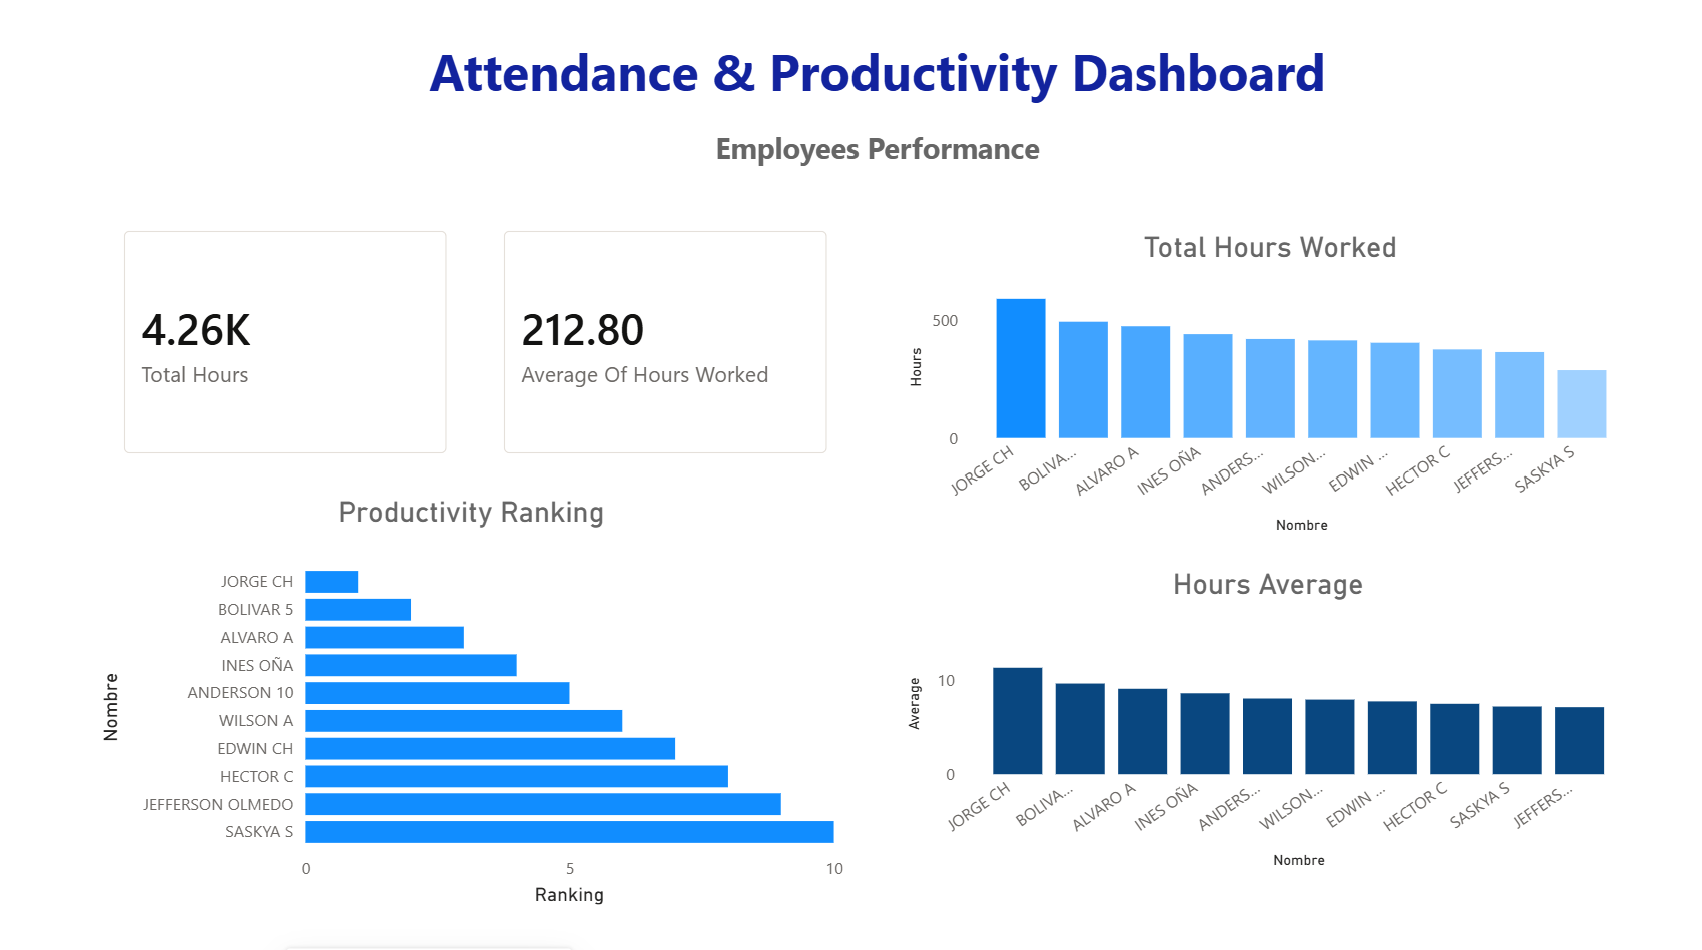

What the dashboard file says about the page in this screenshot:
{"tool":"powerbi","page":{"name":"Employees Performance","canvas":[1280,720],"ordinal":1},"visuals":[{"type":"cardVisual","fields":{"Data":["Sum(public vw_company_overview.total_hours)"]},"box":[97.1,139.5,259.3,200.2],"z":0},{"type":"cardVisual","fields":{"Data":["Avg(public vw_company_overview.avg_hours)"]},"box":[329.1,139.5,275,200],"z":1000},{"type":"clusteredBarChart","title":"Productivity ranking by employee","fields":{"Category":["public vw_productivity_ranking.Nombre"],"Y":["Sum(public vw_productivity_ranking.productivity_ranking)"]},"box":[59.1,339.7,579.3,347.3],"z":2000},{"type":"clusteredColumnChart","title":"Average hours by employee","fields":{"Y":["Avg(public vw_employee_summary.Average_Hours)"],"Category":["public vw_employee_summary.Nombre"]},"box":[676.4,398.9,550.5,274.5],"z":3000},{"type":"clusteredColumnChart","title":"Total hours by employee","fields":{"Y":["Sum(public vw_employee_summary.Total_Hours)"],"Category":["public vw_employee_summary.Nombre"]},"box":[676.4,139.5,550.5,256.3],"z":4000},{"type":"textbox","box":[74.3,33.4,1170.8,106.2],"z":5000}]}

Visuals, with their boxes in screenshot pixels (x1, y1, x2, y2), scaled from the page's 1280x720 canvas onto the 1702x950 screenshot:
cardVisual - Sum(public vw_company_overview.total_hours): locate(129, 184, 474, 448)
cardVisual - Avg(public vw_company_overview.avg_hours): locate(438, 184, 803, 448)
"Productivity ranking by employee" clusteredBarChart: locate(79, 448, 849, 906)
"Average hours by employee" clusteredColumnChart: locate(899, 526, 1631, 889)
"Total hours by employee" clusteredColumnChart: locate(899, 184, 1631, 522)
textbox: locate(99, 44, 1656, 184)
